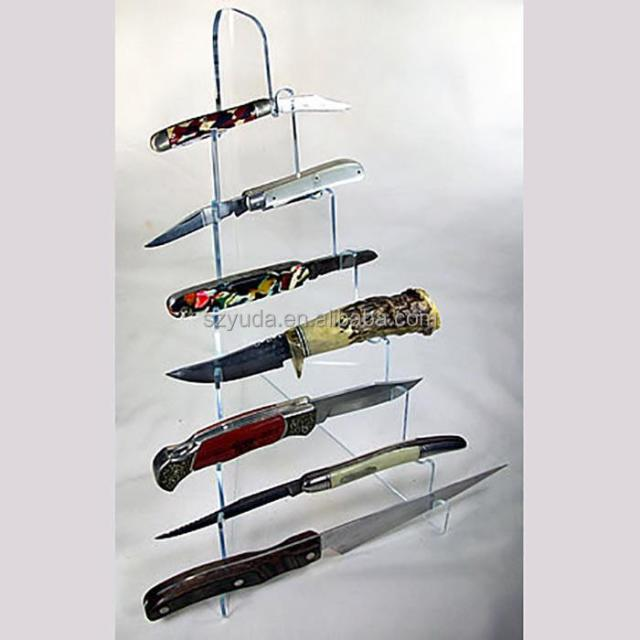Knife: (143, 464, 507, 622), (153, 379, 422, 493), (168, 436, 466, 536), (169, 289, 442, 387), (151, 160, 366, 246), (167, 252, 377, 319), (150, 89, 351, 154)
